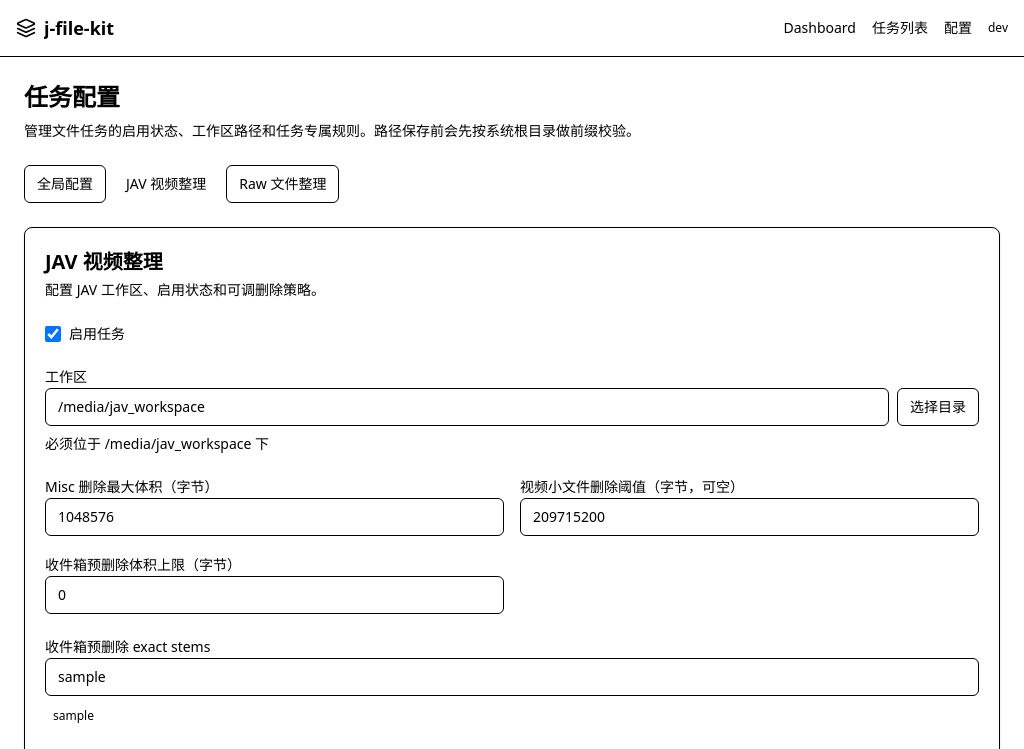
Test case: Config page › updates the JAV task config
Replace the text in the field labelled "工作区" with "/media/jav_workspace/project-a" at (467, 407), box x1=45 y1=388 x2=889 y2=426
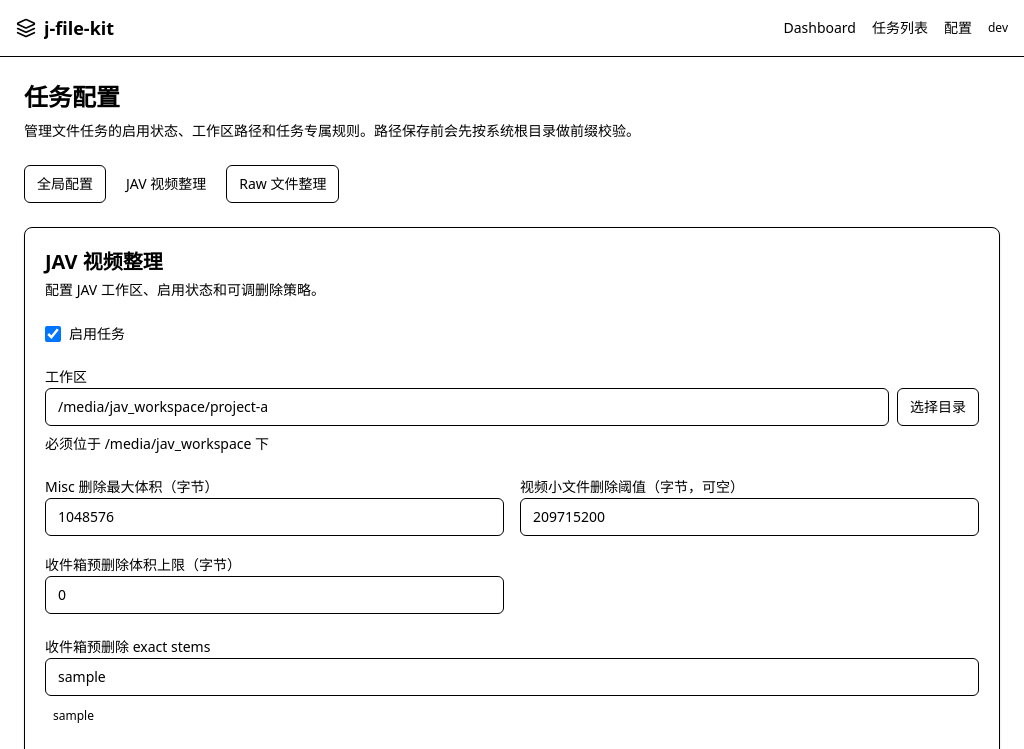
Replace the text in the field labelled "收件箱预删除 exact stems" with "sample, trailer" at (512, 677), box x1=45 y1=658 x2=979 y2=696
(page scrolled)
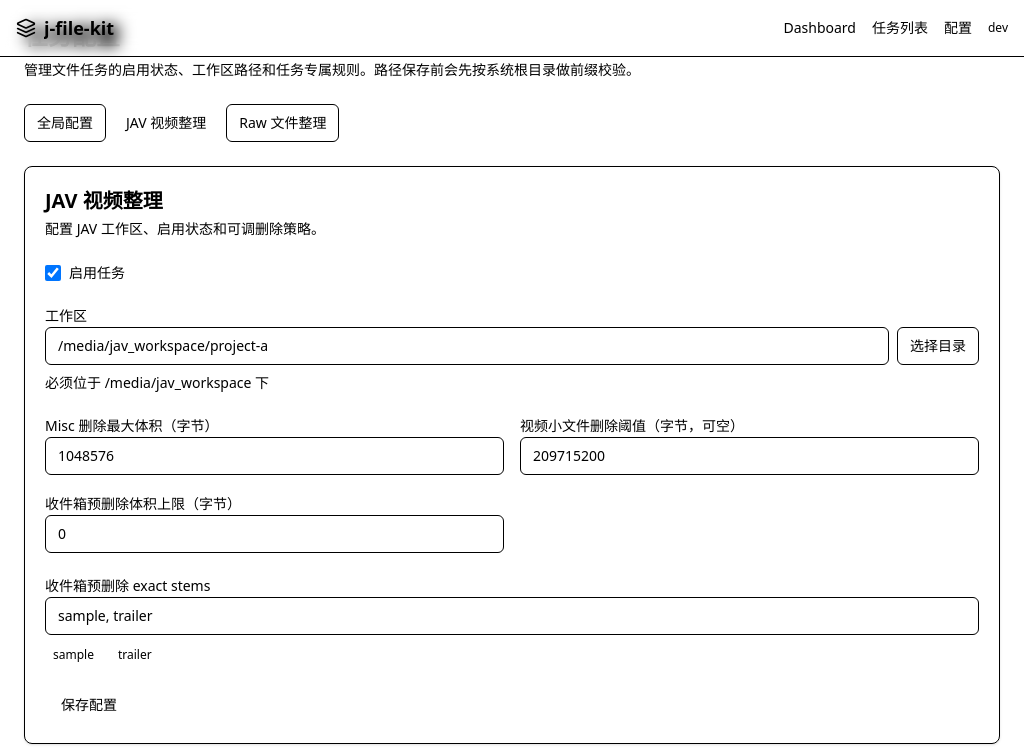
Click the button "保存配置" at (89, 705), box x1=45 y1=687 x2=133 y2=723
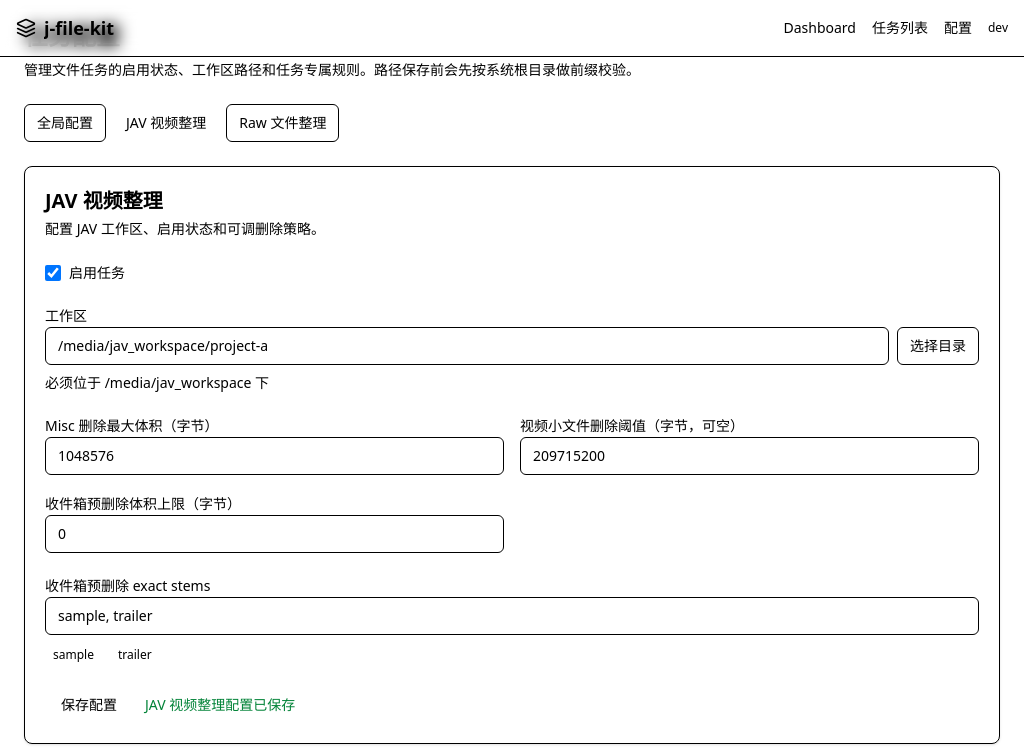
Check: the text "JAV 视频整理配置已保存" is shown, box x1=145 y1=695 x2=295 y2=715
